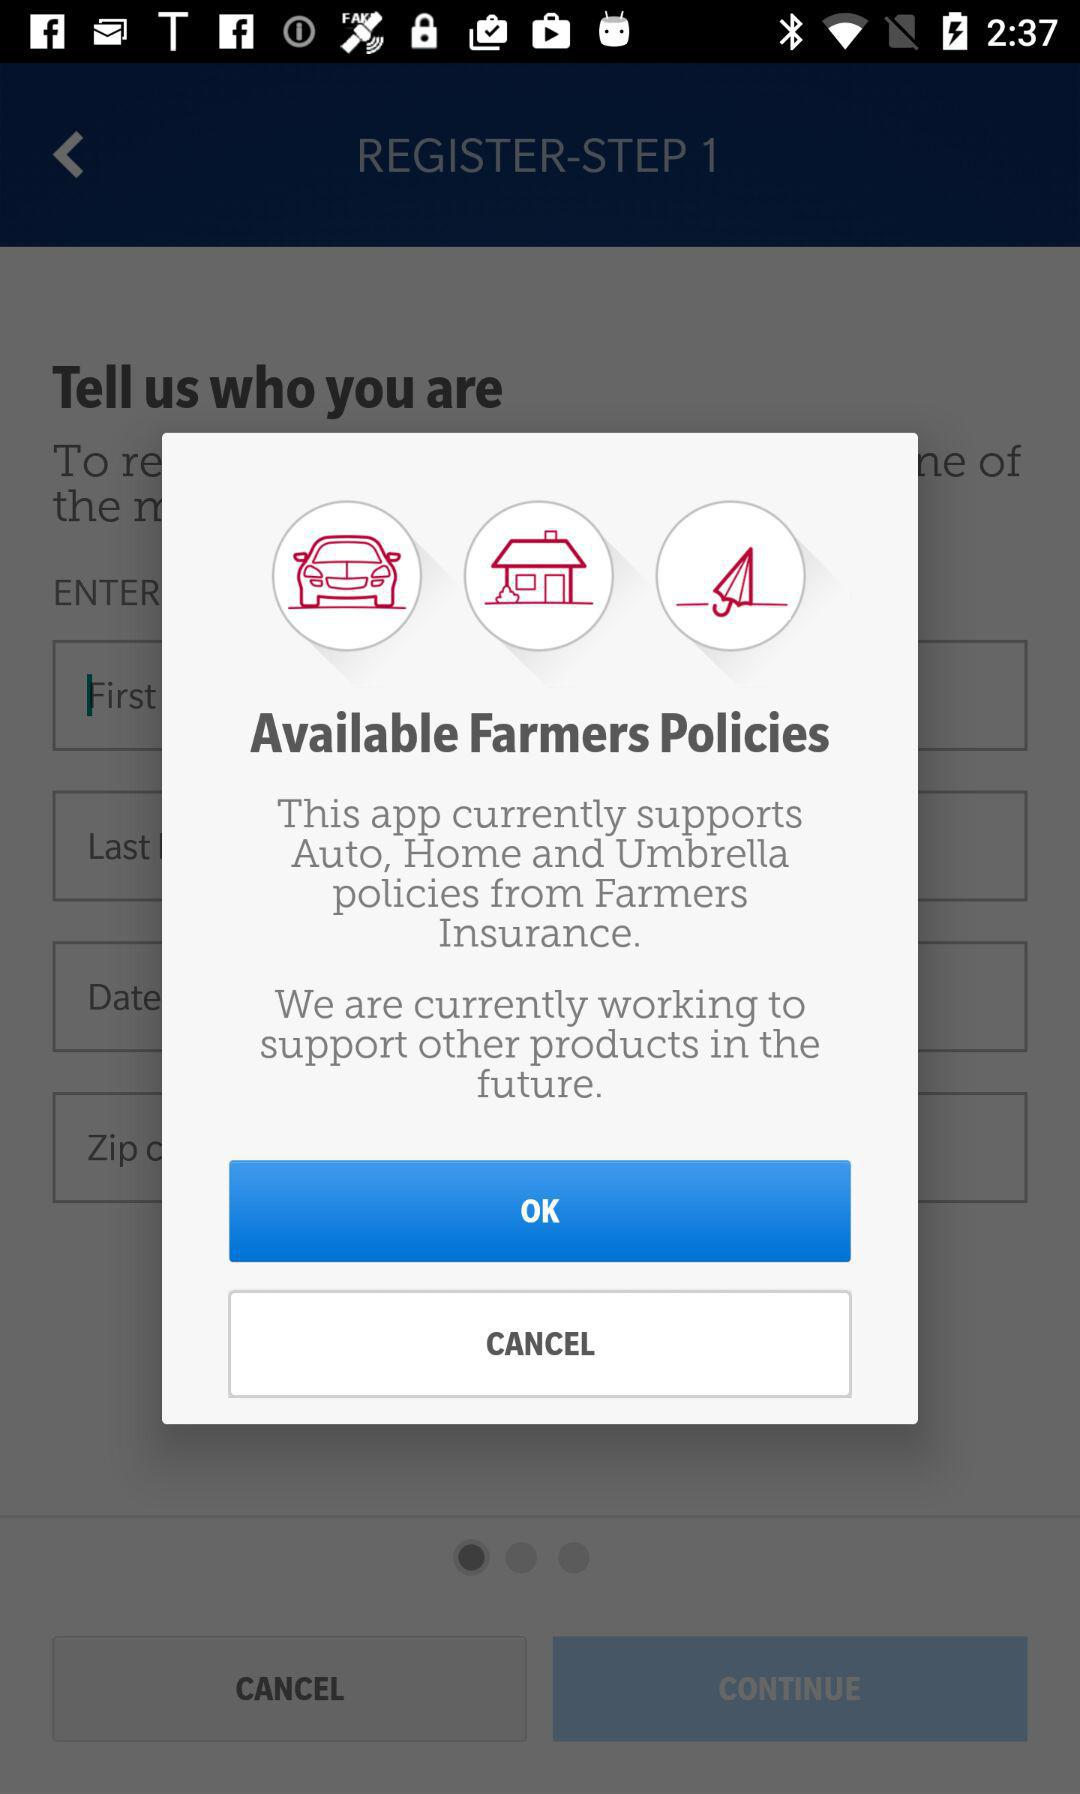Icon: (53, 131, 86, 179)
Image: (656, 501, 808, 654), (272, 501, 423, 654), (464, 501, 615, 652)
Modal: (163, 433, 919, 1424)
PageIndicator: (452, 1538, 592, 1577)
Text: (278, 798, 801, 950), (261, 989, 820, 1099), (53, 365, 503, 422), (250, 711, 831, 753), (360, 138, 716, 176)
TextButton: (229, 1290, 852, 1399), (231, 1160, 852, 1263), (50, 1635, 528, 1743), (552, 1636, 1029, 1743)
UpperTaskBar: (1, 1, 1080, 64)
